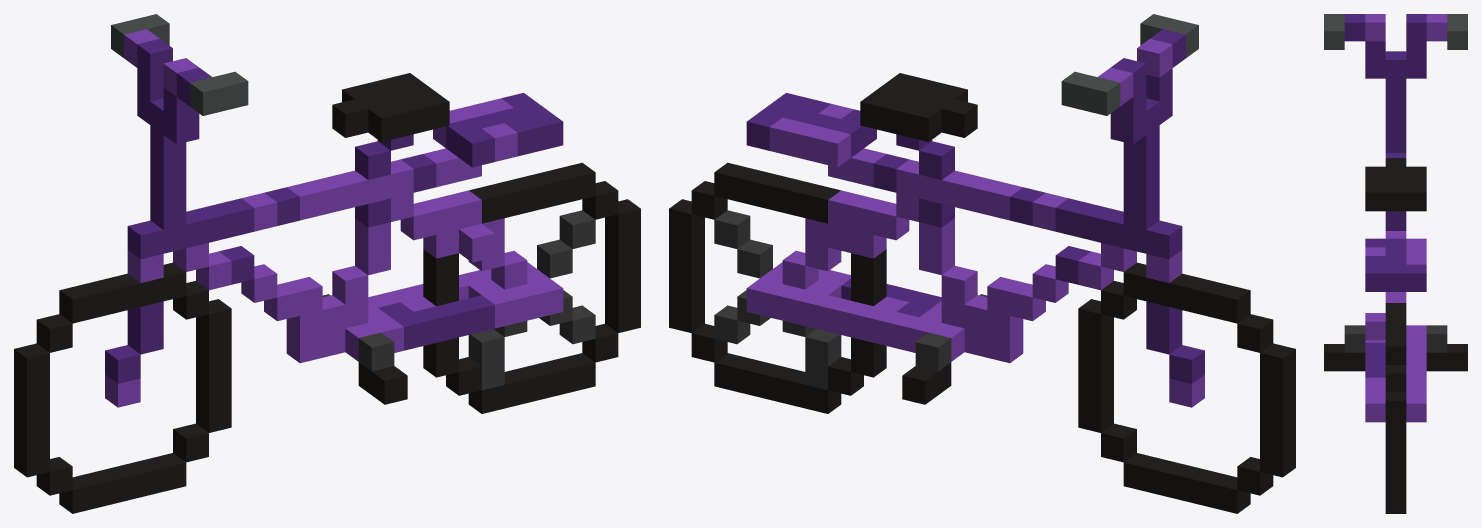
The model's file is TESTOWANIE_VOXELA-10.obj.
3 views of the same model, side by side, from view 1: azimuth 30°, elevation 25°; view 2: azimuth 150°, elevation 25°; view 3: azimuth 270°, elevation 25° (orthographic). The views are drawn at different scales.
Bounding box in the file's own units: 2.7 × 1.8 × 0.7.
1 material, 1 textured.
